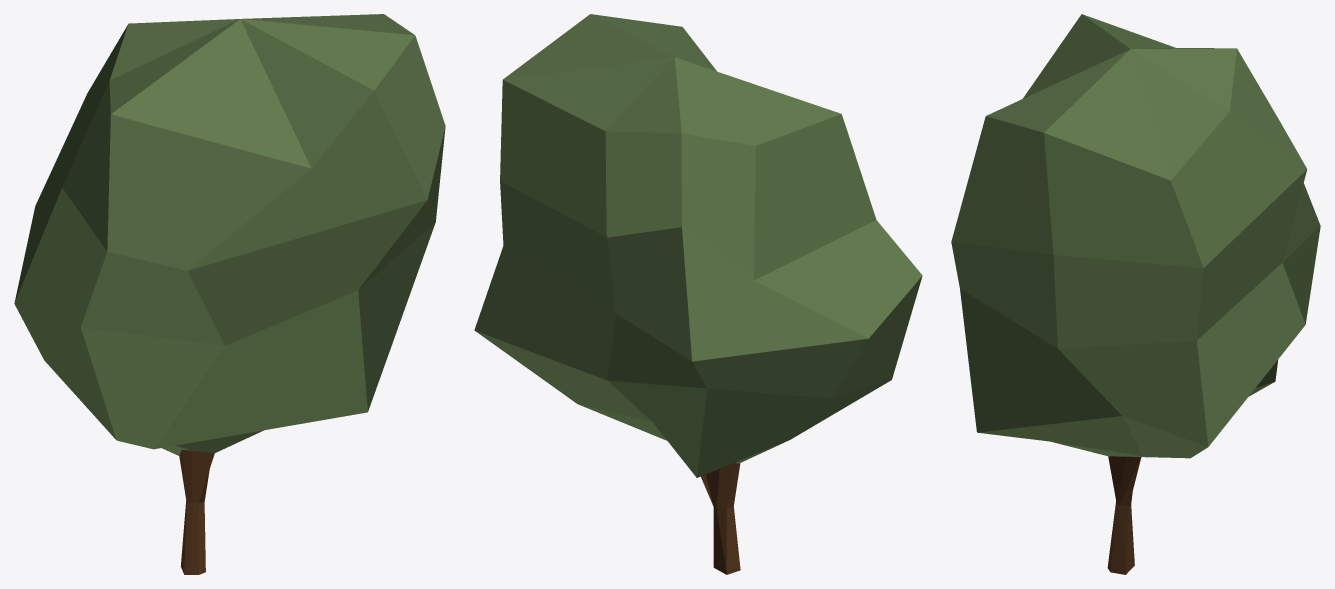
The model's file is asset.gltf.
3 renders of one model, left to right at view 1: azimuth 30°, elevation 25°; view 2: azimuth 150°, elevation 25°; view 3: azimuth 270°, elevation 25°, orthographic. The views are drawn at different scales.
Parts seen in each view (by area): view 1: Tree_PROXY; view 2: Tree_PROXY; view 3: Tree_PROXY.
Part boxes in pixels (<box>): Tree_PROXY: <box>14,14,445,574</box>; Tree_PROXY: <box>474,14,922,574</box>; Tree_PROXY: <box>951,14,1320,574</box>.
Bounding box in the file's own units: 7.31 × 9.57 × 5.87.
